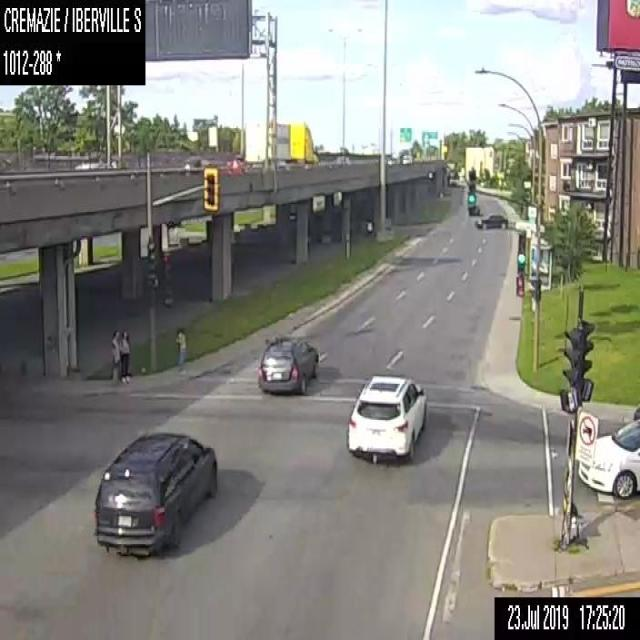pedestrian: (110, 328, 122, 383), (120, 329, 132, 382), (174, 325, 187, 371)
vehicle: (93, 431, 215, 553), (344, 372, 426, 461), (576, 404, 639, 497), (244, 120, 318, 169), (259, 337, 317, 392), (474, 213, 506, 228), (73, 156, 109, 169), (226, 153, 245, 171), (182, 153, 202, 168), (328, 154, 349, 167), (387, 153, 399, 165), (468, 202, 479, 215), (402, 153, 412, 164)
